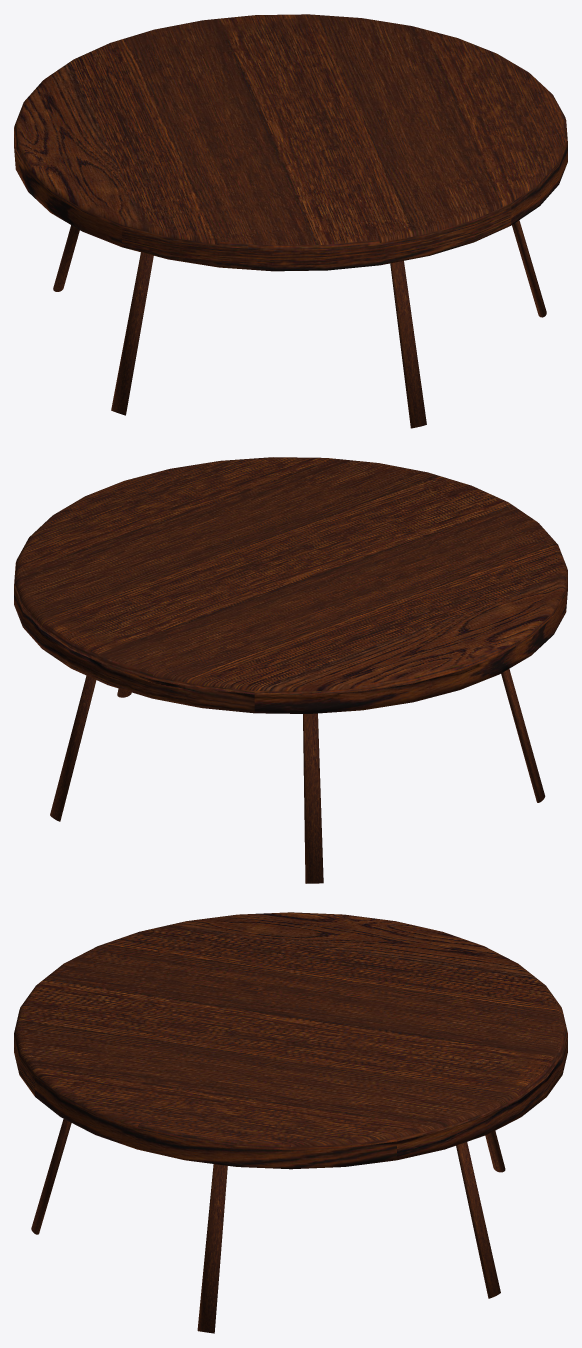
The model's file is Table.fbx.
3 views of the same model, one above another, from view 1: azimuth 30°, elevation 25°; view 2: azimuth 150°, elevation 25°; view 3: azimuth 270°, elevation 25° (orthographic).
Visible parts, largest first — view 1: TableTop, Legs; view 2: TableTop, Legs; view 3: TableTop, Legs.
Boxes of the visible parts, x1,y1,x2,y2 form: TableTop: [14, 14, 567, 271]; Legs: [53, 220, 546, 428]; TableTop: [14, 457, 567, 713]; Legs: [50, 669, 545, 883]; TableTop: [14, 912, 567, 1169]; Legs: [31, 1119, 505, 1333].
Bounding box in the file's own units: 86 × 35.18 × 86.
